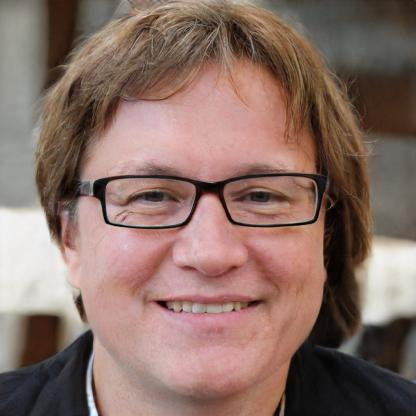glasses: (74, 169, 333, 236)
